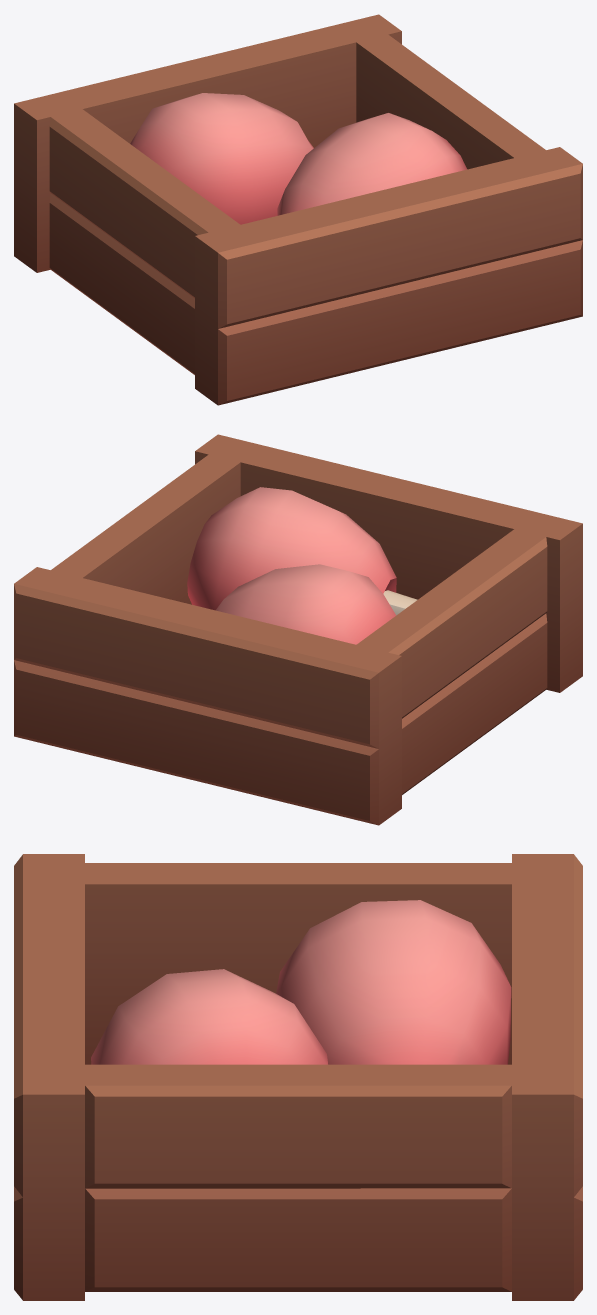
The model's file is crate_ham.obj.
The picture shows the model from 3 angles, top to bottom: view 1: azimuth 30°, elevation 25°; view 2: azimuth 150°, elevation 25°; view 3: azimuth 270°, elevation 25°; orthographic projection. The views are drawn at different scales.
Parts seen in each view (by area): view 1: crate_ham_Cube.234; view 2: crate_ham_Cube.234; view 3: crate_ham_Cube.234.
Boxes of the visible parts, x1,y1,x2,y2 form: crate_ham_Cube.234: (14,14,582,405); crate_ham_Cube.234: (14,434,582,825); crate_ham_Cube.234: (14,854,582,1300).
Size of the model in its own units: 2 by 0.8937 by 2.
1 material, 1 textured.
